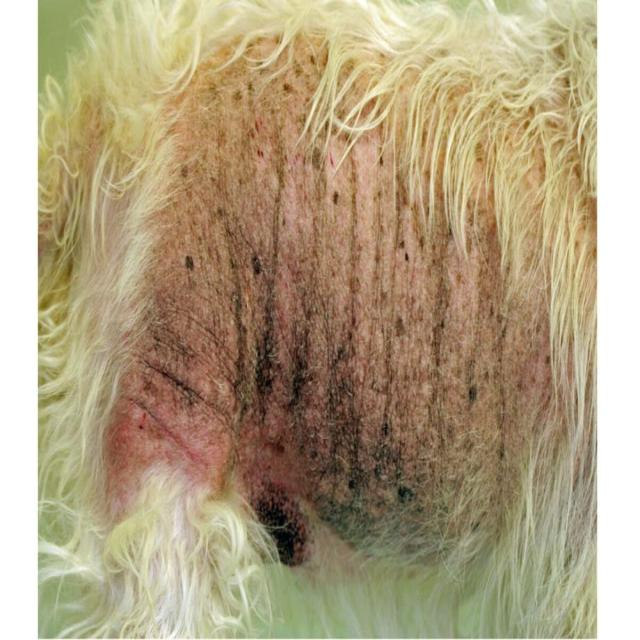allergic dermatitis: (110, 78, 565, 574)
